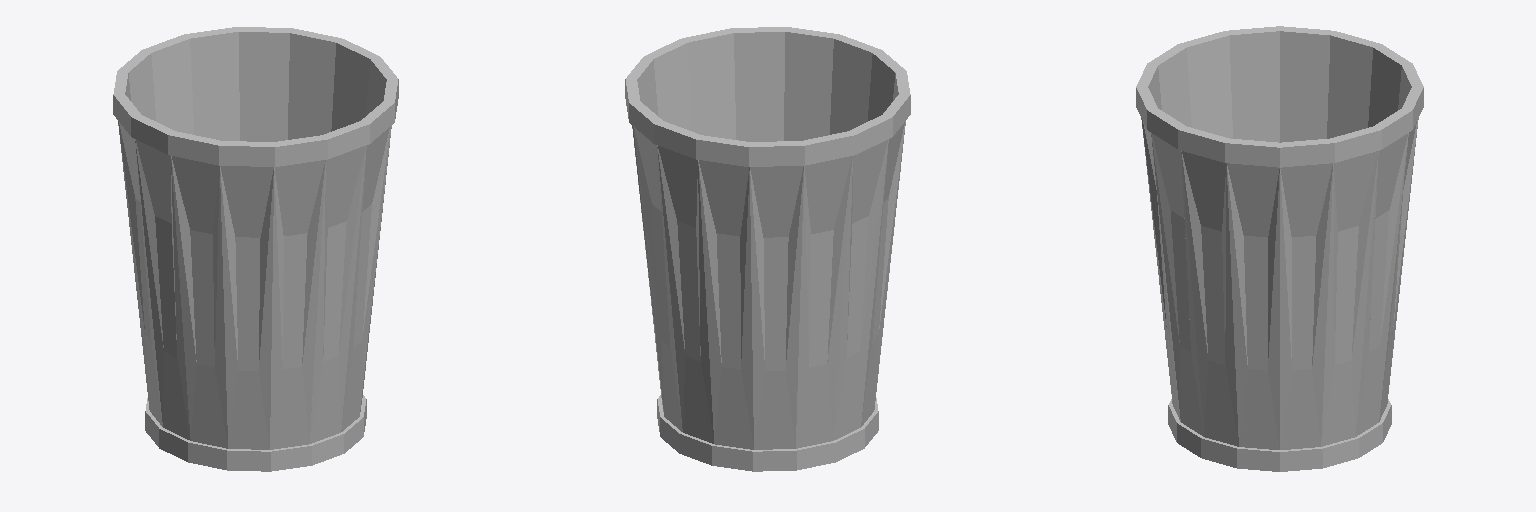
Rendered from bin.obj.
The picture shows the model from 3 angles: view 1: azimuth 30°, elevation 25°; view 2: azimuth 150°, elevation 25°; view 3: azimuth 270°, elevation 25°; orthographic projection.
Visible parts, largest first — view 1: pCylinder1; view 2: pCylinder1; view 3: pCylinder1.
Part boxes in pixels (x1,y1,x2,y2): pCylinder1: (113, 27, 398, 471); pCylinder1: (625, 27, 910, 471); pCylinder1: (1136, 26, 1423, 471).
Bounding box in the file's own units: 6.17 × 8 × 6.17.